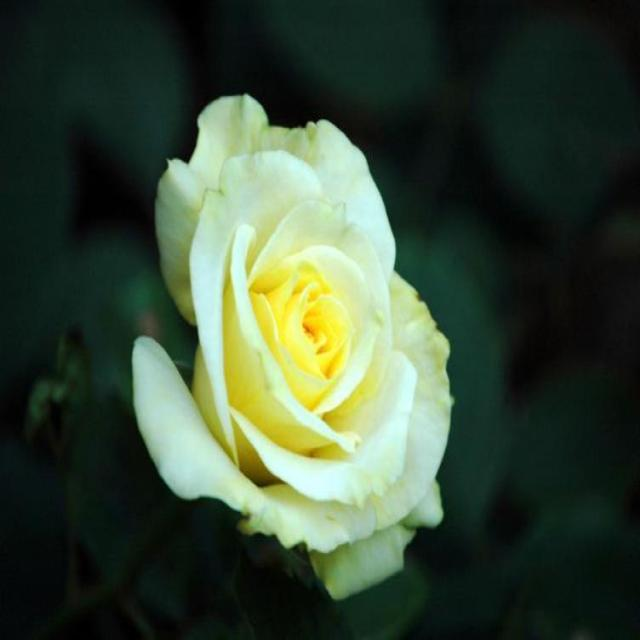rose: (96, 57, 528, 625)
